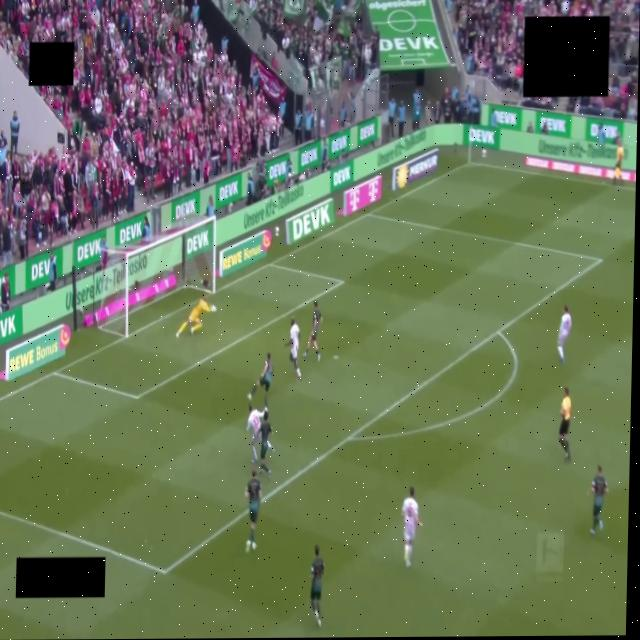ball: (211, 305, 216, 311)
player: (177, 295, 216, 337), (402, 487, 421, 567), (247, 353, 272, 408), (246, 468, 261, 552), (247, 405, 268, 463), (591, 466, 608, 536), (304, 302, 322, 361), (311, 546, 324, 627), (285, 318, 301, 380), (259, 417, 273, 477), (558, 306, 572, 363), (613, 139, 624, 184)
referee: (559, 388, 571, 461)
